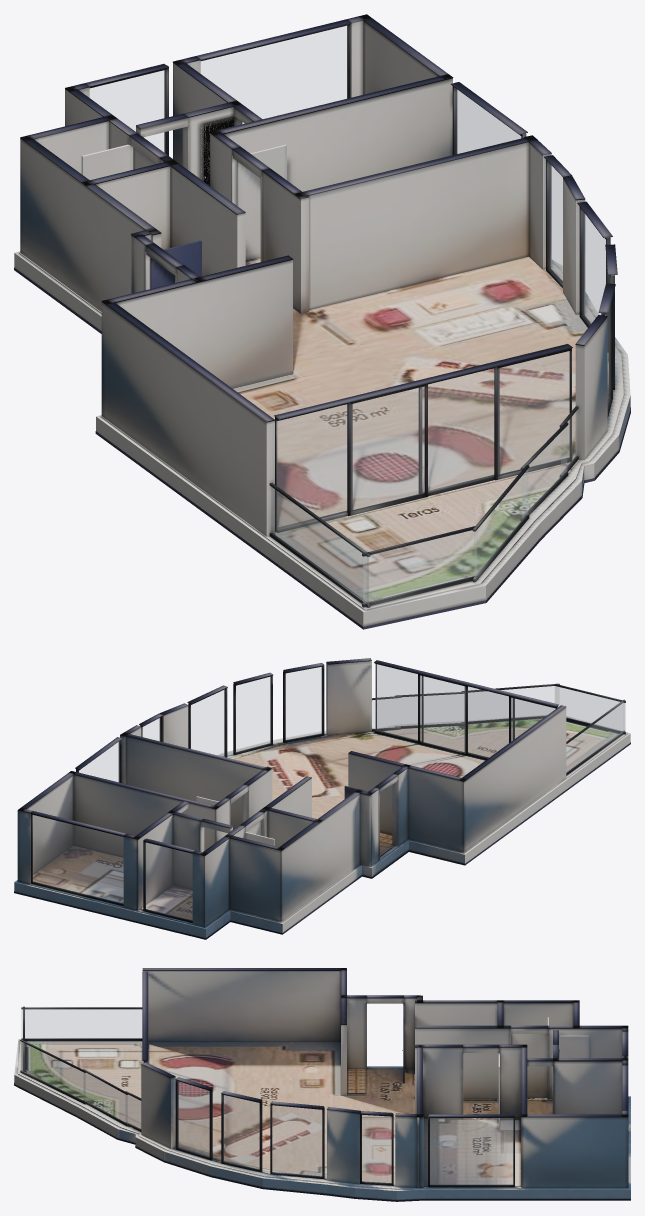
The picture shows the model from 3 angles, top to bottom: view 1: azimuth 30°, elevation 25°; view 2: azimuth 150°, elevation 25°; view 3: azimuth 270°, elevation 25°; orthographic projection. The views are drawn at different scales.
Parts seen in each view (by area): view 1: plan, glass3_m, glass0_m, railg3_m, railg4_m, glass1_m, railg1_m, glass2_m, glass5_m, railg2_m, glass4_m; view 2: plan, glass3_m, glass0_m, glass1_m, glass7_m, glass6_m, railg1_m, glass5_m, railg3_m, railg4_m, railg2_m, glass2_m (+1 smaller); view 3: plan, glass2_m, railg4_m, glass5_m, glass6_m, glass7_m, glass4_m, railg1_m, railg2_m, railg0_m.
Part boxes in pixels (x1,y1,x2,y2): plan: (14,14,630,629); glass3_m: (276,351,569,528); glass0_m: (201,26,347,123); railg3_m: (363,530,476,603); railg4_m: (271,487,368,603); glass1_m: (90,70,165,152); railg1_m: (474,470,527,578); glass2_m: (456,89,520,153); glass5_m: (582,211,605,324); railg2_m: (522,427,566,516); glass4_m: (549,163,562,282); plan: (14,658,630,939); glass3_m: (375,664,554,757); glass0_m: (32,815,123,903); glass1_m: (145,843,192,920); glass7_m: (286,667,321,740); glass6_m: (236,677,270,752); railg1_m: (468,686,558,721); glass5_m: (191,690,224,756); railg3_m: (555,686,625,731); railg4_m: (566,703,623,772); railg2_m: (401,694,463,725); glass2_m: (79,741,119,781); plan: (14,968,630,1201); glass2_m: (430,1118,512,1184); railg4_m: (21,1009,141,1038); glass5_m: (272,1105,321,1176); glass6_m: (223,1095,259,1169); glass7_m: (178,1081,209,1157); glass4_m: (362,1115,391,1183); railg1_m: (21,1042,85,1101); railg2_m: (84,1073,127,1123); railg0_m: (126,1095,140,1129).
Bounding box in the file's own units: 10.39 × 2.62 × 17.78.
2 materials, 1 textured.
